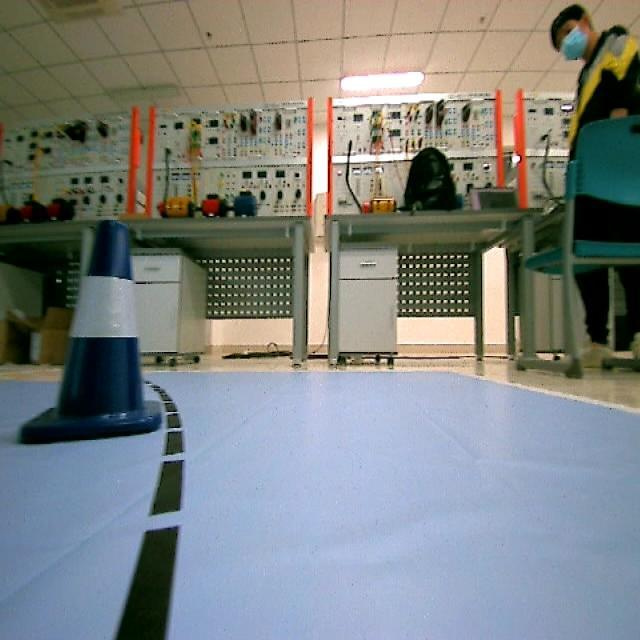obstacle: (9, 217, 170, 446)
